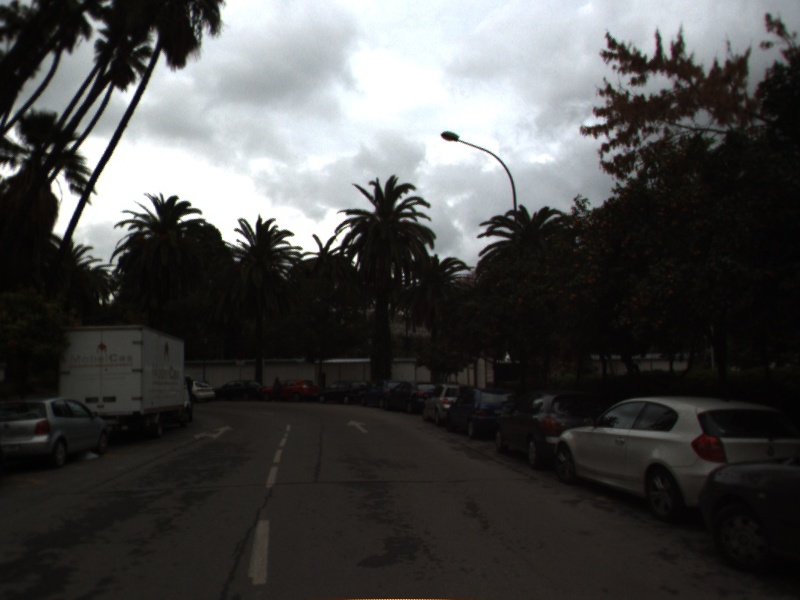STRAIGHT: (344, 417, 372, 435)
STRAIGHT_LEFT: (191, 422, 236, 442)
